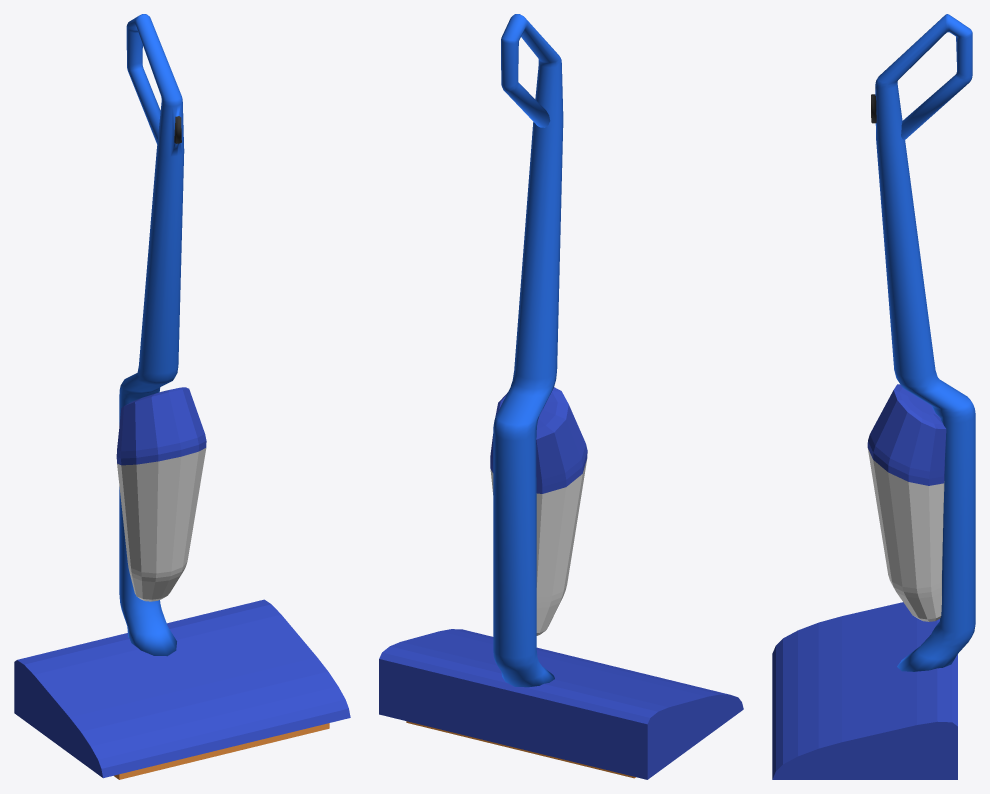
The model's file is cordless-vacuum.fbx.
3 renders of one model, left to right at view 1: azimuth 30°, elevation 25°; view 2: azimuth 150°, elevation 25°; view 3: azimuth 270°, elevation 25°, orthographic. The views are drawn at different scales.
Parts seen in each view (by area): view 1: Cylinder.005; view 2: Cylinder.005; view 3: Cylinder.005.
Boxes of the visible parts, x1,y1,x2,y2 form: Cylinder.005: (14, 14, 350, 779); Cylinder.005: (379, 14, 743, 779); Cylinder.005: (772, 14, 975, 779).
Bounding box in the file's own units: 162 × 425 × 110.
